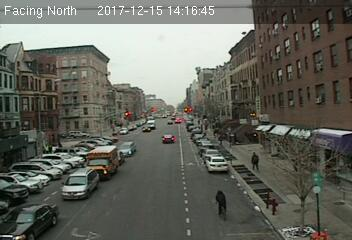bicycle: (215, 189, 229, 222)
car: (1, 202, 58, 240), (60, 168, 100, 201), (205, 155, 229, 173), (117, 142, 136, 156), (161, 134, 176, 143)
pedestrian: (250, 149, 260, 173)
truck: (84, 146, 118, 177)
